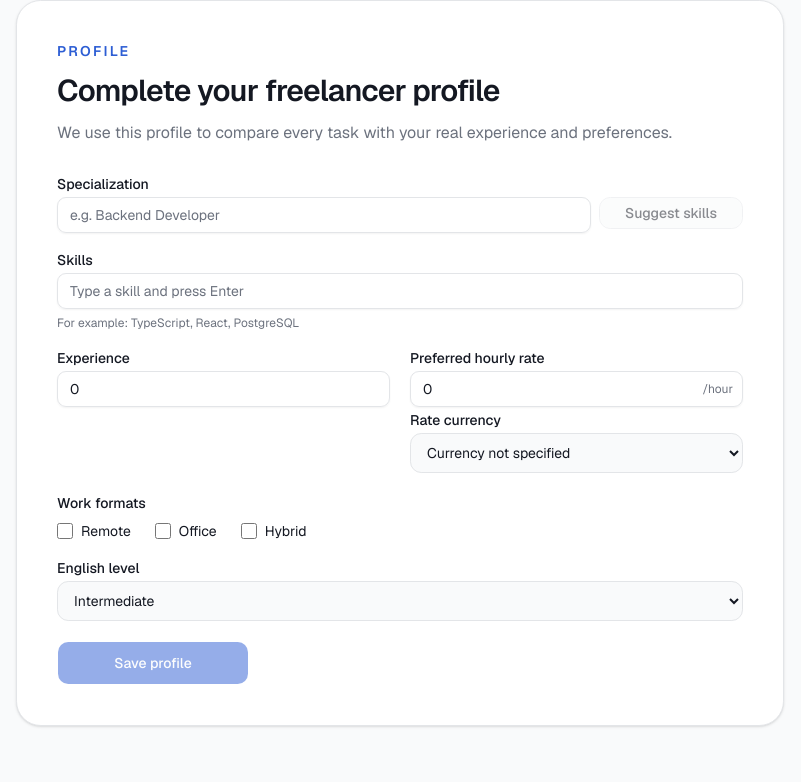
Scenario: ProfileEditor › filters existing skills before limiting suggestions to 10 chips
This screenshot has width=801, height=782.
Type "Backend Developer" into the field labelled "Specialization".
click(324, 215); type("Backend Developer")  # box [57,197,591,233]
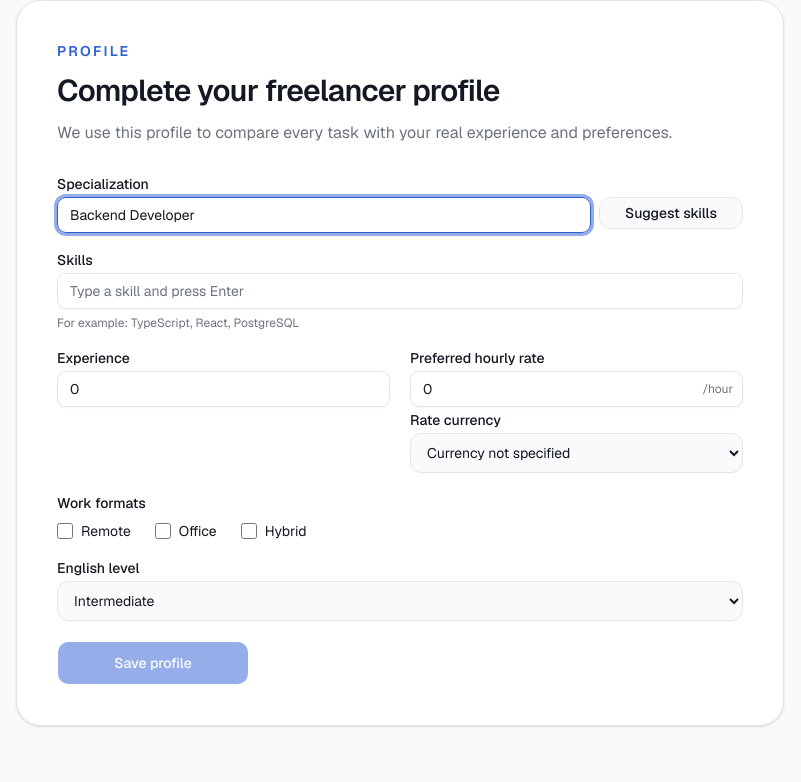
Type "TypeScript" into the field labelled "Skills".
click(400, 291); type("TypeScript")  # box [57,273,743,309]
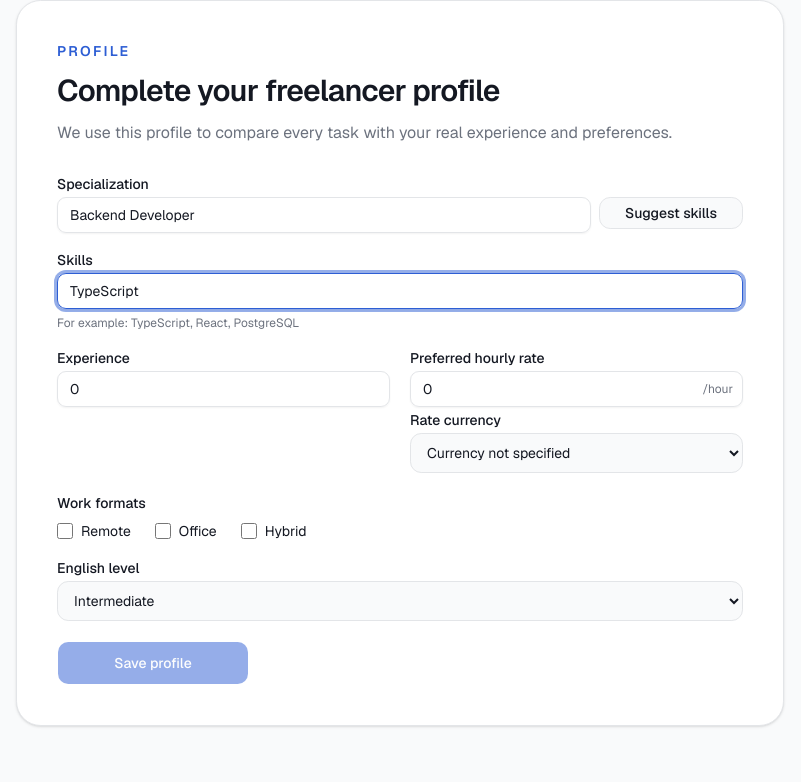
Click the button "Suggest skills".
click(671, 213)  # box [599,197,743,229]
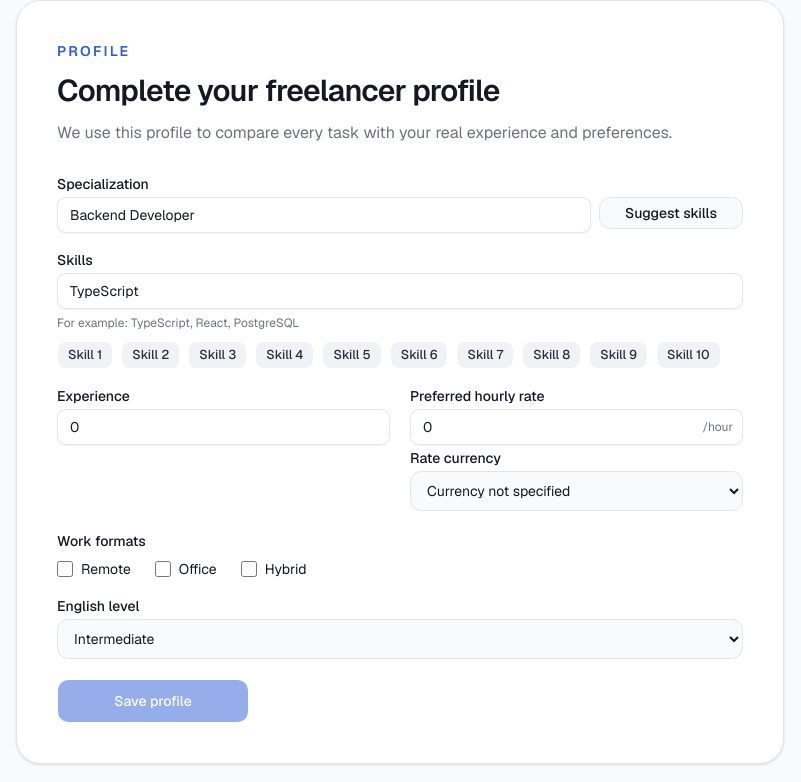
Expected: the number of buttons "Skill 1" is 10
Expected: the button "Skill 10" is shown, [656,341,721,369]
